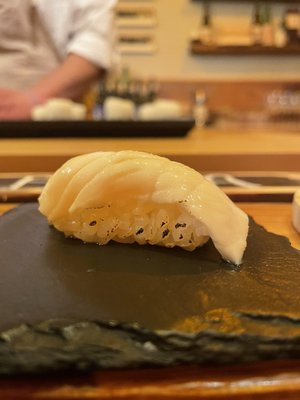sushi: (0, 147, 300, 379)
